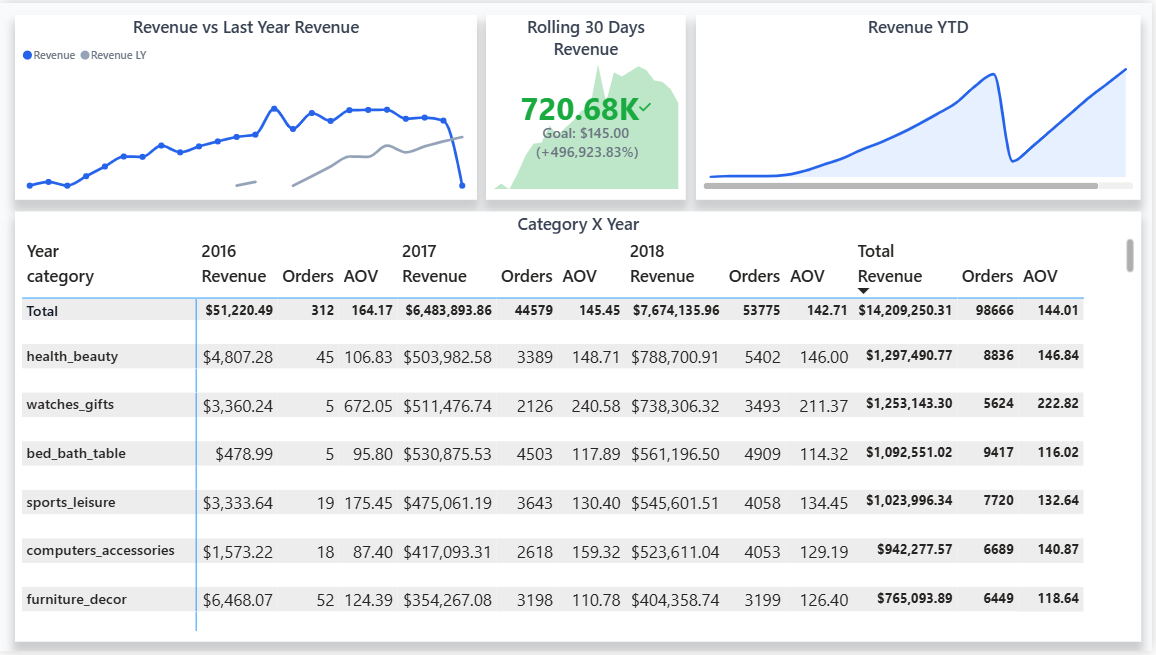

Layout of this report page (visuals, bound fields, positions):
{"tool":"powerbi","page":{"name":"Sales Trends","canvas":[1280,720],"ordinal":1},"visuals":[{"type":"lineChart","title":"Revenue vs Last Year Revenue","fields":{"Y":["public bi_fact_sales.Revenue","public bi_fact_sales.Revenue LY"],"Category":["DimDate.Year-Month"]},"box":[16.2,13,513.3,205.6],"z":0},{"type":"kpi","title":"Rolling 30 Days Revenue","fields":{"TrendLine":["DimDate.Year-Month"],"Indicator":["public bi_fact_sales.Rolling 30D Revenue"],"Goal":["public bi_fact_sales.Revenue"]},"box":[540.8,13,221.8,205.6],"z":1000},{"type":"areaChart","title":"Revenue YTD","fields":{"Category":["DimDate.Year-Month"],"Y":["public bi_fact_sales.Revenue YTD"]},"box":[774,13,493.9,205.6],"z":2000},{"type":"pivotTable","title":"Category X Year","fields":{"Values":["public bi_fact_sales.Revenue","public bi_fact_sales.Orders","public bi_fact_sales.AOV"],"Rows":["public bi_fact_sales.category"],"Columns":["DimDate.Year"]},"box":[16.2,231.5,1251.7,477.7],"z":3000}]}

Visuals, with their boxes in screenshot pixels (x1, y1, x2, y2), scaled from the page's 1280x720 canvas onto the 1156x655 screenshot:
"Revenue vs Last Year Revenue" lineChart: bbox(15, 12, 478, 199)
"Rolling 30 Days Revenue" kpi: bbox(488, 12, 689, 199)
"Revenue YTD" areaChart: bbox(699, 12, 1145, 199)
"Category X Year" pivotTable: bbox(15, 211, 1145, 645)
